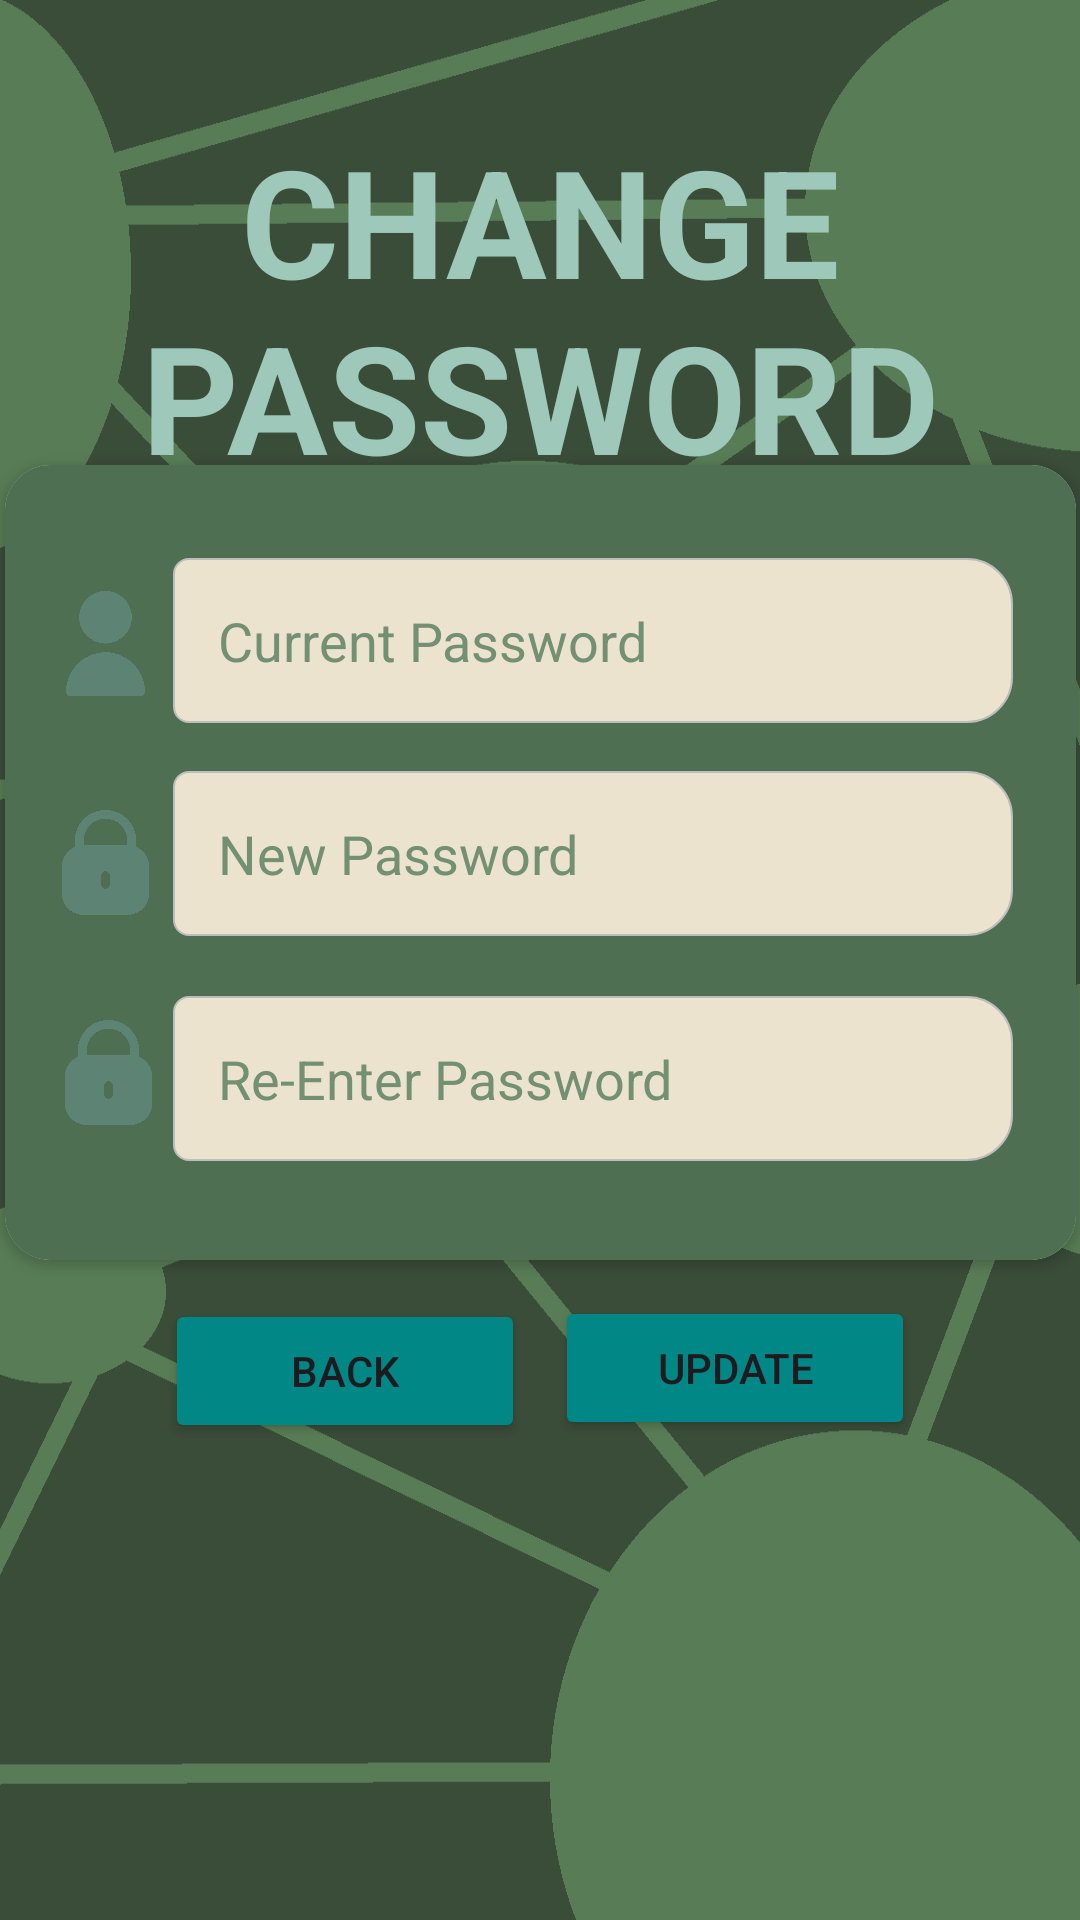

Point at icon controls on the screen. Image size 1080*1920, points as point (x, y).
lock: point (105, 862), point (108, 1072)
users: point (105, 643)
